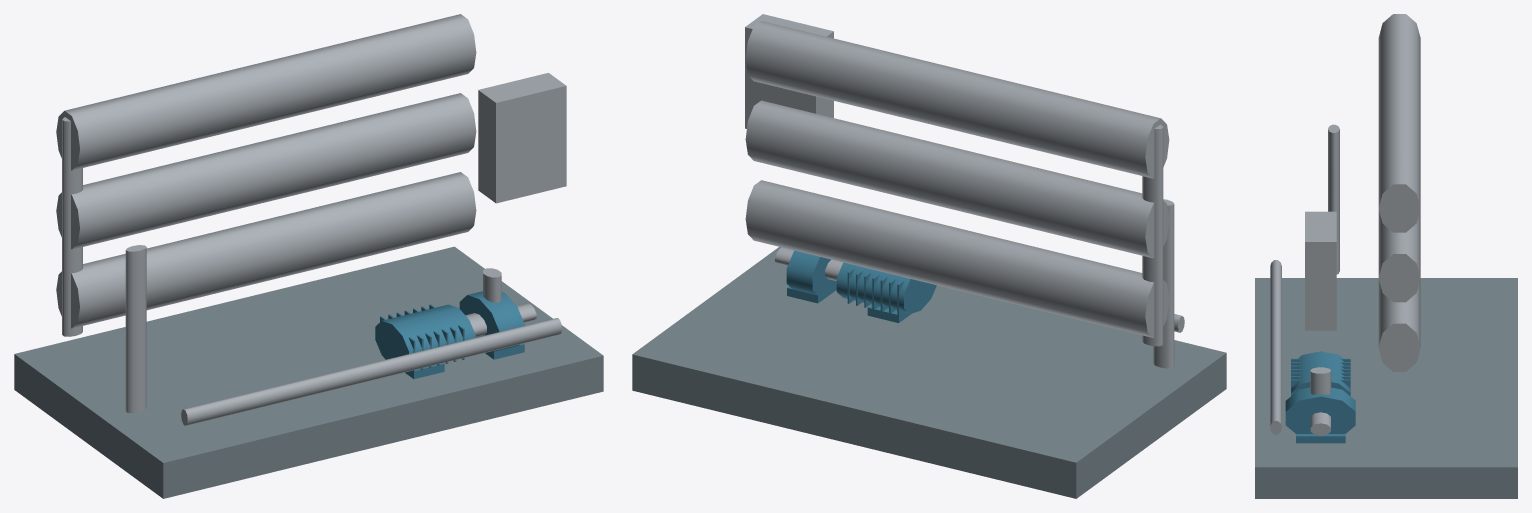
The picture shows the model from 3 angles, left to right: view 1: azimuth 30°, elevation 25°; view 2: azimuth 150°, elevation 25°; view 3: azimuth 270°, elevation 25°; orthographic projection. The views are drawn at different scales.
Visible parts, largest first — view 1: g0, g0.001, g0.004, g0.006, g0.007, g0.003, g0.005, g3, g0.002, g5; view 2: g0, g0.001, g0.004, g0.006, g0.002, g3, g0.007, g0.005, g5; view 3: g0, g0.001, g0.007, g0.004, g0.006, g5, g0.003, g3, g0.005, g7, g2, g6.
Boxes of the visible parts, x1,y1,x2,y2 form: g0: (14, 246, 603, 498); g0.001: (56, 14, 476, 170); g0.004: (56, 93, 476, 249); g0.006: (56, 172, 476, 328); g0.007: (478, 73, 566, 203); g0.003: (181, 318, 561, 425); g0.005: (125, 245, 146, 413); g3: (375, 304, 475, 359); g0.002: (62, 117, 82, 336); g5: (459, 291, 524, 353); g0: (632, 247, 1226, 498); g0.001: (745, 21, 1169, 178); g0.004: (745, 100, 1169, 258); g0.006: (745, 180, 1169, 337); g0.002: (1142, 124, 1163, 346); g3: (836, 262, 936, 313); g0.007: (745, 14, 833, 128); g0.005: (1153, 199, 1174, 368); g5: (786, 250, 836, 297); g0: (1255, 278, 1517, 498); g0.001: (1378, 14, 1420, 232); g0.007: (1305, 211, 1336, 330); g0.004: (1378, 209, 1420, 302); g0.006: (1378, 279, 1420, 371); g5: (1285, 387, 1355, 433); g0.003: (1270, 260, 1281, 434); g3: (1291, 351, 1350, 395); g0.005: (1328, 124, 1339, 274); g7: (1310, 367, 1331, 394); g2: (1296, 434, 1345, 443); g6: (1310, 412, 1330, 435).
Bounding box in the file's own units: 3.2 × 2.19 × 1.8.
